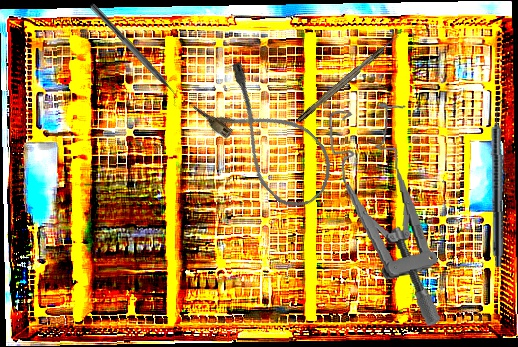Cannula: (188, 57, 348, 220)
Chopper: (83, 2, 185, 108)
Handpiece: (489, 99, 508, 268)
Hook Surgical: (295, 32, 402, 124)
Speculum: (326, 96, 444, 335)
